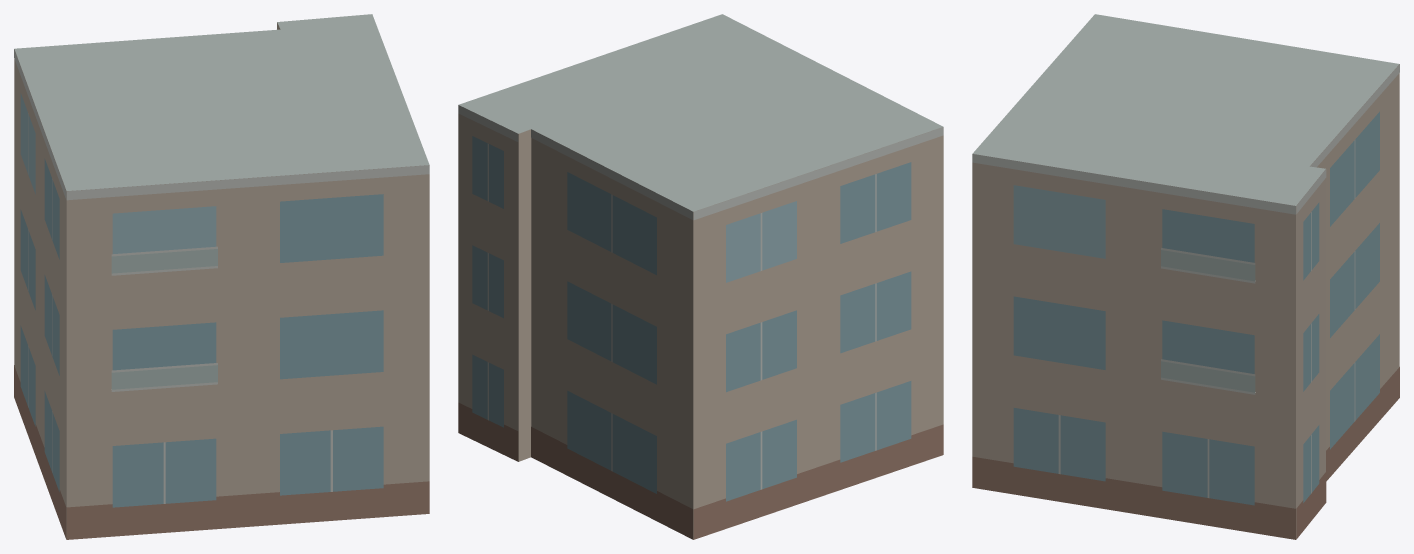
The model's file is survey-upis-32507109.glb.
The picture shows the model from 3 angles, left to right: view 1: azimuth 30°, elevation 25°; view 2: azimuth 150°, elevation 25°; view 3: azimuth 270°, elevation 25°; orthographic projection. The views are drawn at different scales.
Visible parts, largest first — view 1: survey-upis-32507109.tmp; view 2: survey-upis-32507109.tmp; view 3: survey-upis-32507109.tmp.
Part boxes in pixels (x1,y1,x2,y2): survey-upis-32507109.tmp: (14, 14, 429, 539); survey-upis-32507109.tmp: (458, 14, 943, 539); survey-upis-32507109.tmp: (972, 14, 1399, 539).
Bounding box in the file's own units: 11.48 × 9.3 × 10.8.
